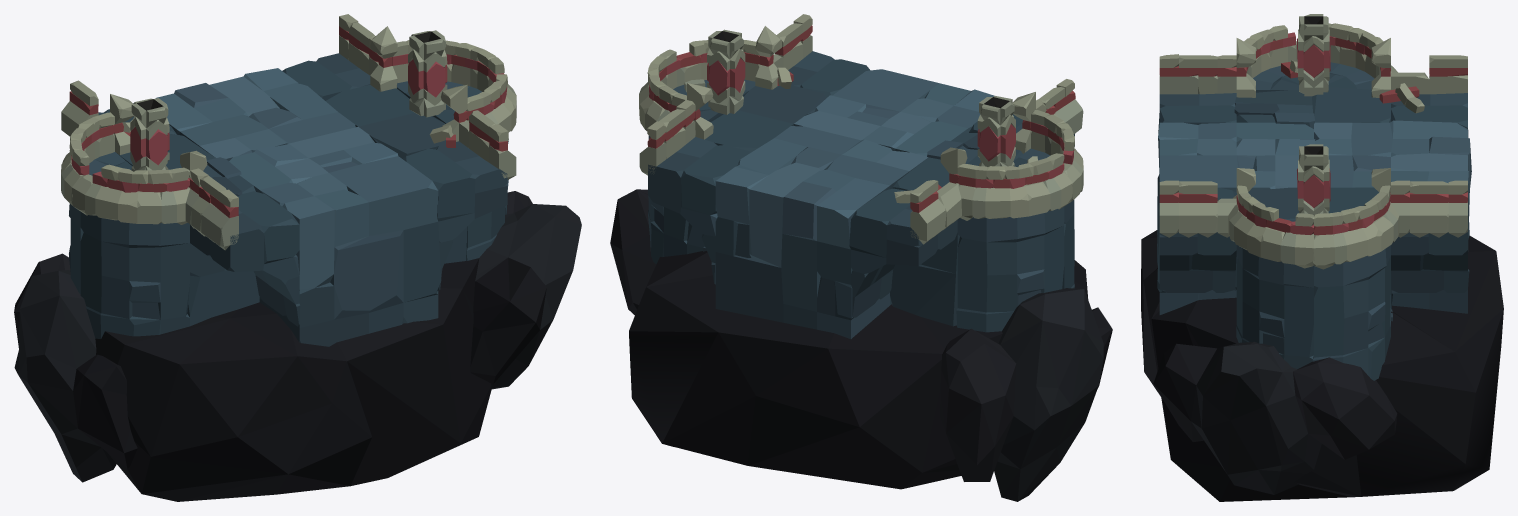
File: hallway_I_05_alcoves_small.fbx
3 renders of one model, left to right at view 1: azimuth 30°, elevation 25°; view 2: azimuth 150°, elevation 25°; view 3: azimuth 270°, elevation 25°, orthographic. The views are drawn at different scales.
Visible parts, largest first — view 1: hallway_I_05_alcoves_small; view 2: hallway_I_05_alcoves_small; view 3: hallway_I_05_alcoves_small.
Part boxes in pixels (x1,y1,x2,y2): hallway_I_05_alcoves_small: [14, 14, 581, 501]; hallway_I_05_alcoves_small: [610, 14, 1112, 501]; hallway_I_05_alcoves_small: [1141, 14, 1503, 501].
Size of the model in its own units: 1462 by 1075 by 942.
